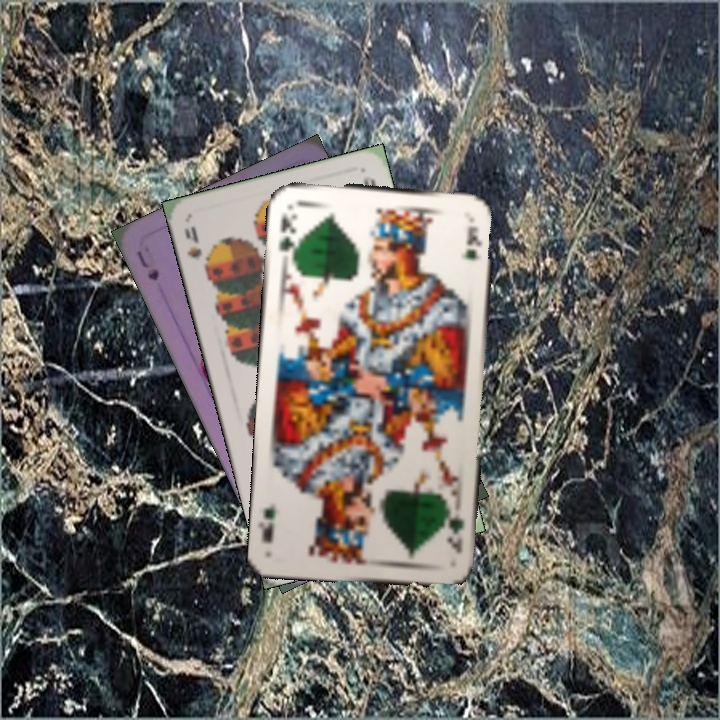GK: (274, 209, 301, 262), (442, 502, 467, 556)
S9: (180, 222, 213, 277)
SU: (132, 246, 162, 284)
